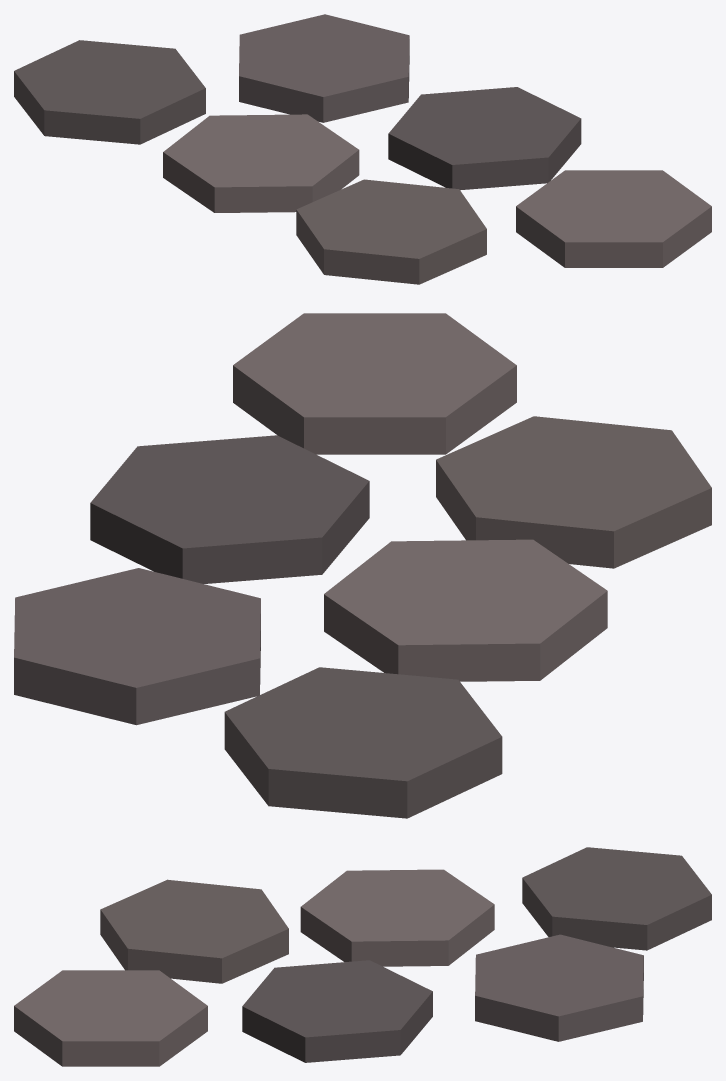
Rendered from ARC0710090.fbx.
3 renders of one model, top to bottom at view 1: azimuth 30°, elevation 25°; view 2: azimuth 150°, elevation 25°; view 3: azimuth 270°, elevation 25°, orthographic. The views are drawn at different scales.
Parts seen in each view (by area): view 1: smARC0710090; view 2: smARC0710090; view 3: smARC0710090.
Part boxes in pixels (x1,y1,x2,y2): smARC0710090: (14, 14, 711, 284); smARC0710090: (14, 313, 711, 818); smARC0710090: (14, 847, 711, 1066).
Size of the model in its own units: 183 by 11.19 by 278.
Materials: 1 (1 with a texture image).
